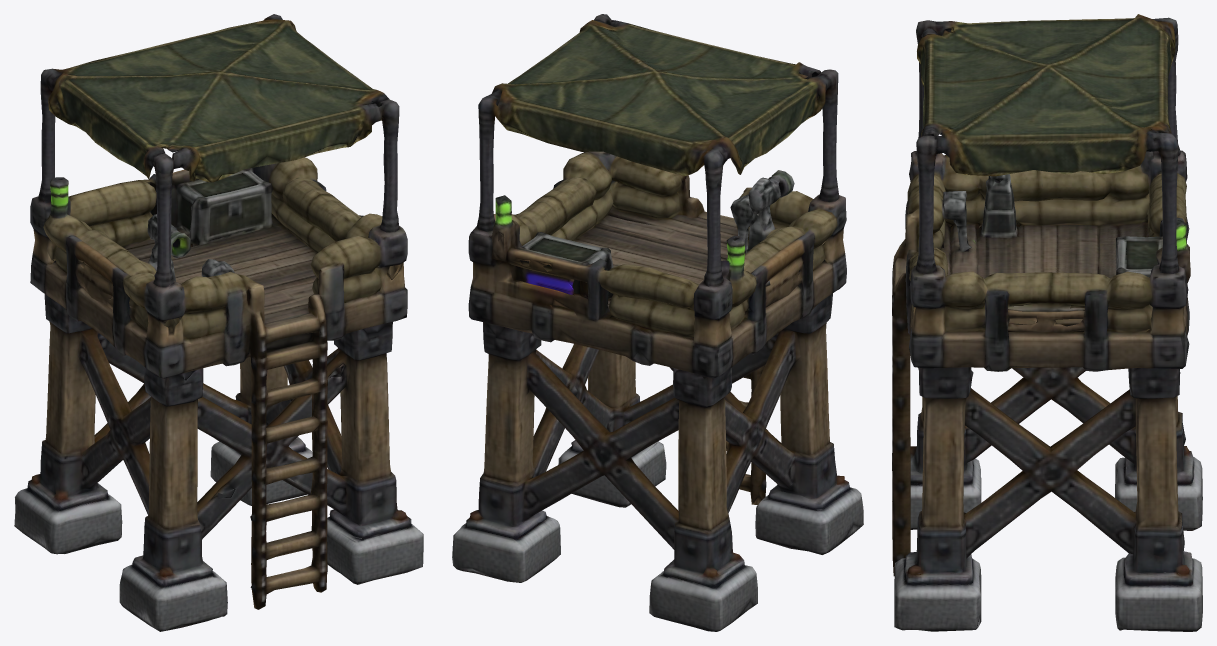
The model's file is watchtower_l02.glb.
3 renders of one model, left to right at view 1: azimuth 30°, elevation 25°; view 2: azimuth 150°, elevation 25°; view 3: azimuth 270°, elevation 25°, orthographic. The views are drawn at different scales.
Visible parts, largest first — view 1: world; view 2: world; view 3: world.
Part boxes in pixels (<box>): world: <box>14,14,423,631</box>; world: <box>452,14,863,631</box>; world: <box>892,14,1202,631</box>.
Size of the model in its own units: 0.5855 by 0.9893 by 0.557.
1 material, 1 textured.
